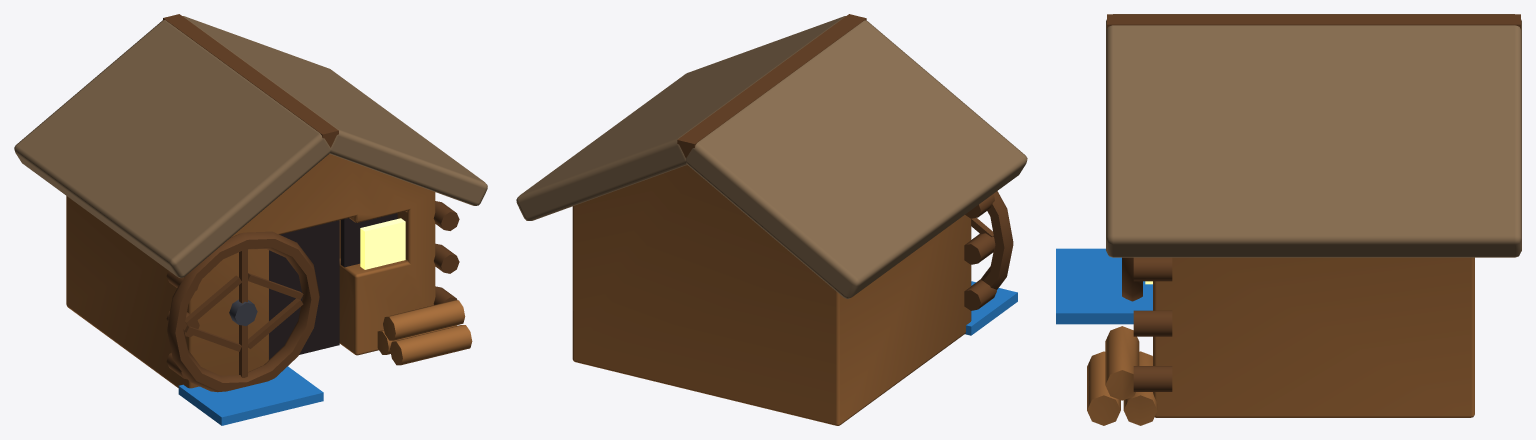
The model's file is Buildings__lumber_camp.glb.
The picture shows the model from 3 angles, left to right: view 1: azimuth 30°, elevation 25°; view 2: azimuth 150°, elevation 25°; view 3: azimuth 270°, elevation 25°; orthographic projection. The views are drawn at different scales.
Parts seen in each view (by area): view 1: lumber_camp_mesh; view 2: lumber_camp_mesh; view 3: lumber_camp_mesh.
Boxes of the visible parts, x1,y1,x2,y2 form: lumber_camp_mesh: (14,14,487,425); lumber_camp_mesh: (516,14,1027,425); lumber_camp_mesh: (1056,14,1521,425).
Size of the model in its own units: 2.34 by 1.74 by 2.28.
